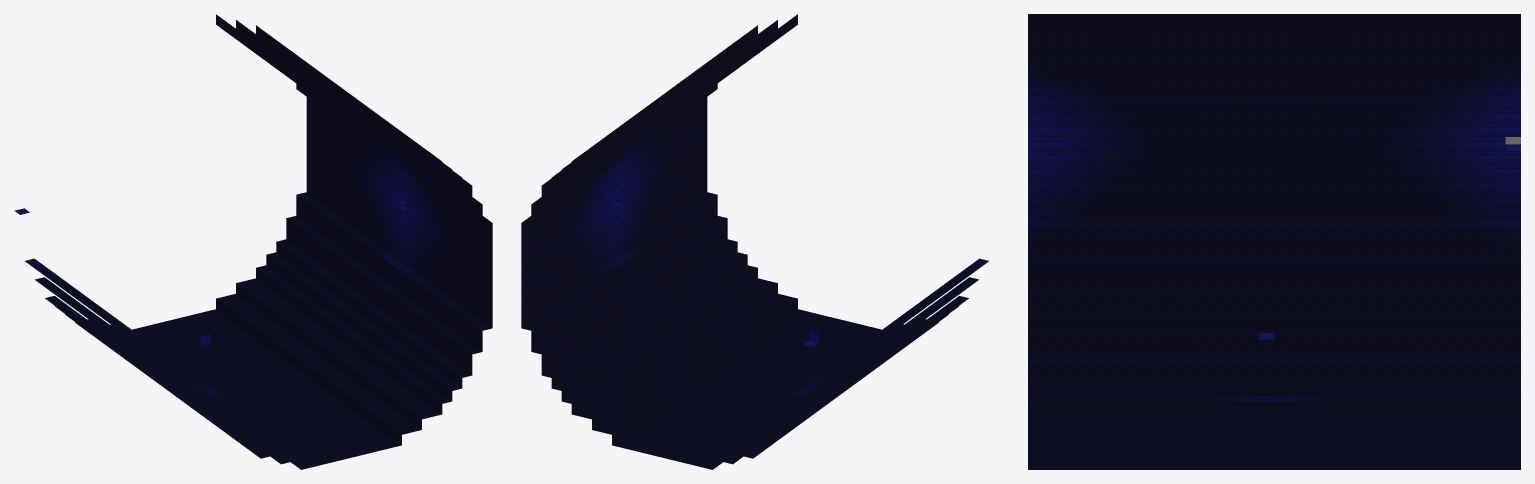
Rendered from tunnel.glb.
3 views of the same model, side by side, from view 1: azimuth 30°, elevation 25°; view 2: azimuth 150°, elevation 25°; view 3: azimuth 270°, elevation 25° (orthographic). The views are drawn at different scales.
Bounding box in the file's own units: 30 × 28 × 32.
Materials: 1 (1 with a texture image).
